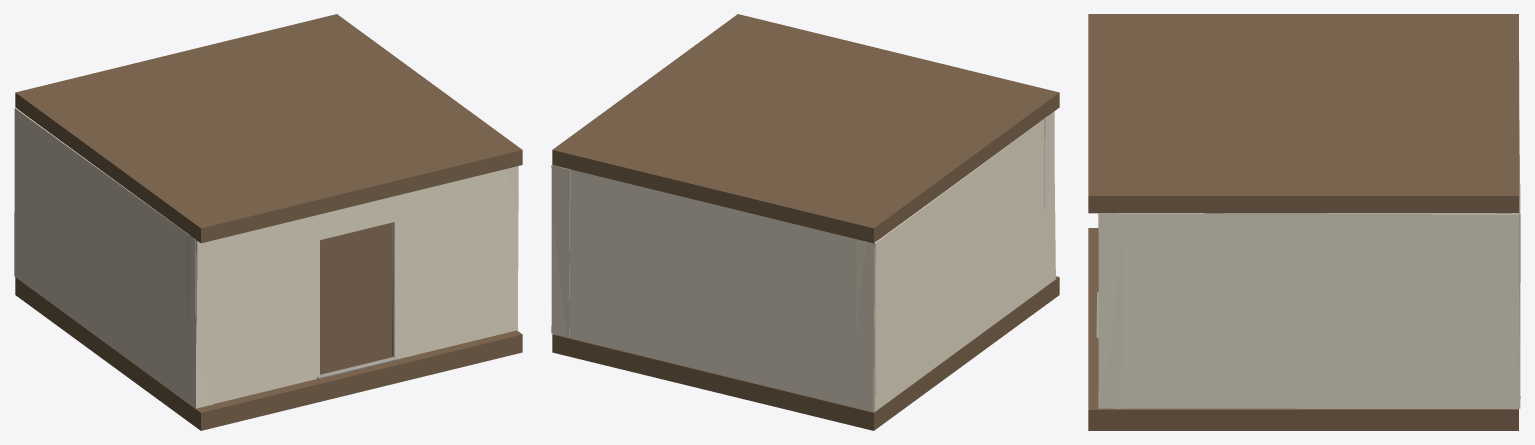
File: int_flat.glb
3 views of the same model, side by side, from view 1: azimuth 30°, elevation 25°; view 2: azimuth 150°, elevation 25°; view 3: azimuth 270°, elevation 25° (orthographic). The views are drawn at different scales.
Parts seen in each view (by area): view 1: int_flat; view 2: int_flat; view 3: int_flat.
Boxes of the visible parts, left/top/right/bottom form: int_flat: left=14, top=14, right=522, bottom=430; int_flat: left=551, top=14, right=1059, bottom=430; int_flat: left=1088, top=14, right=1520, bottom=430.
Size of what is drawn, in the model's own units: 5.63 by 3.37 by 5.62.
